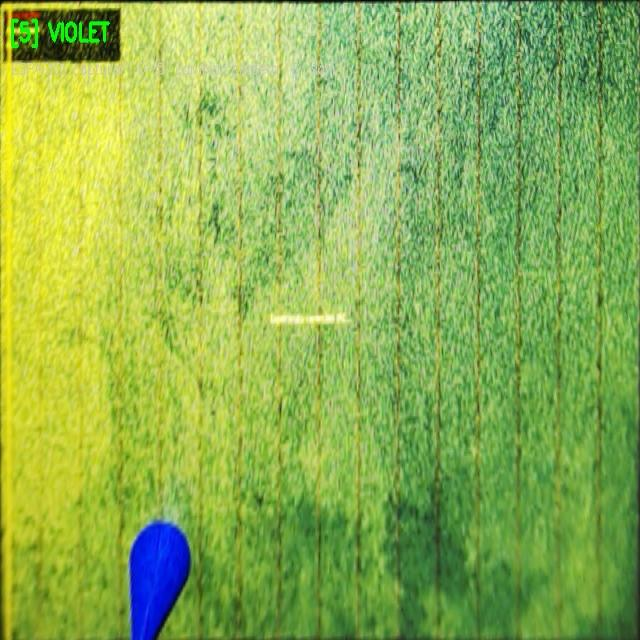violet: (131, 520, 188, 639)
